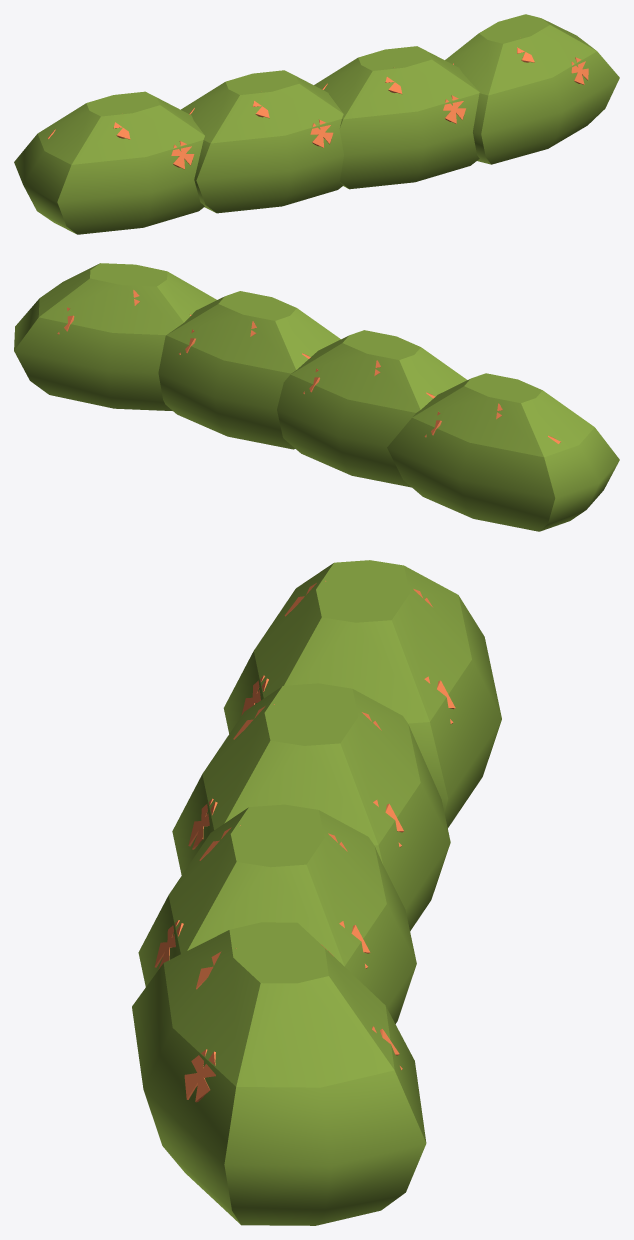
The picture shows the model from 3 angles, top to bottom: view 1: azimuth 30°, elevation 25°; view 2: azimuth 150°, elevation 25°; view 3: azimuth 270°, elevation 25°; orthographic projection. The views are drawn at different scales.
Parts seen in each view (by area): view 1: bush_geo (×4), flower_geo6 (×3); view 2: bush_geo (×4); view 3: bush_geo (×4), flower_geo6.
Part boxes in pixels (box(x1,y1,x2,y2)): bush_geo (×4): box(14, 14, 619, 234); flower_geo6 (×3): box(171, 95, 465, 169); bush_geo (×4): box(14, 263, 619, 531); bush_geo (×4): box(132, 560, 501, 1225); flower_geo6: box(184, 1049, 215, 1102).
Bounding box in the file's own units: 0.0382 × 0.00689 × 0.011.
